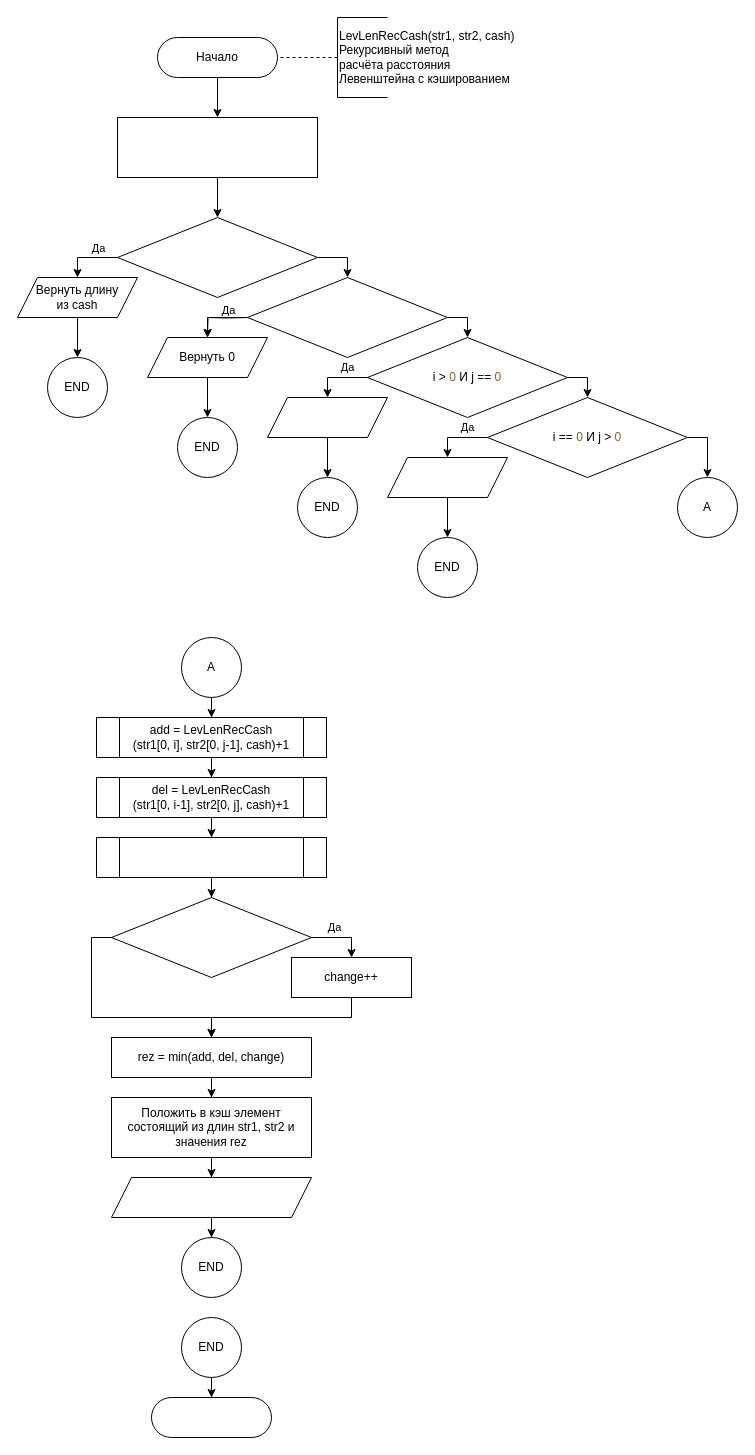
Image size: 755x1455. Some labels were removed from this diagram. Each missing label, with the box of its shape:
change = LevLenRecCash (str1[0, i-1],str2[0, j-1], cash)+1: (96, 836, 326, 878)
i = str1.length(); j = str2.length();: (116, 116, 318, 178)
i == 0 И j == 0: (246, 276, 448, 358)
Вернуть i: (266, 396, 388, 438)
Вернуть j: (386, 456, 508, 498)
Вернуть rez: (110, 1176, 312, 1218)
если str1[j-1] != str2[i-1]: (110, 896, 312, 978)
Если в cash есть строки длинной i и j: (116, 216, 318, 298)
Конец: (150, 1396, 272, 1438)
